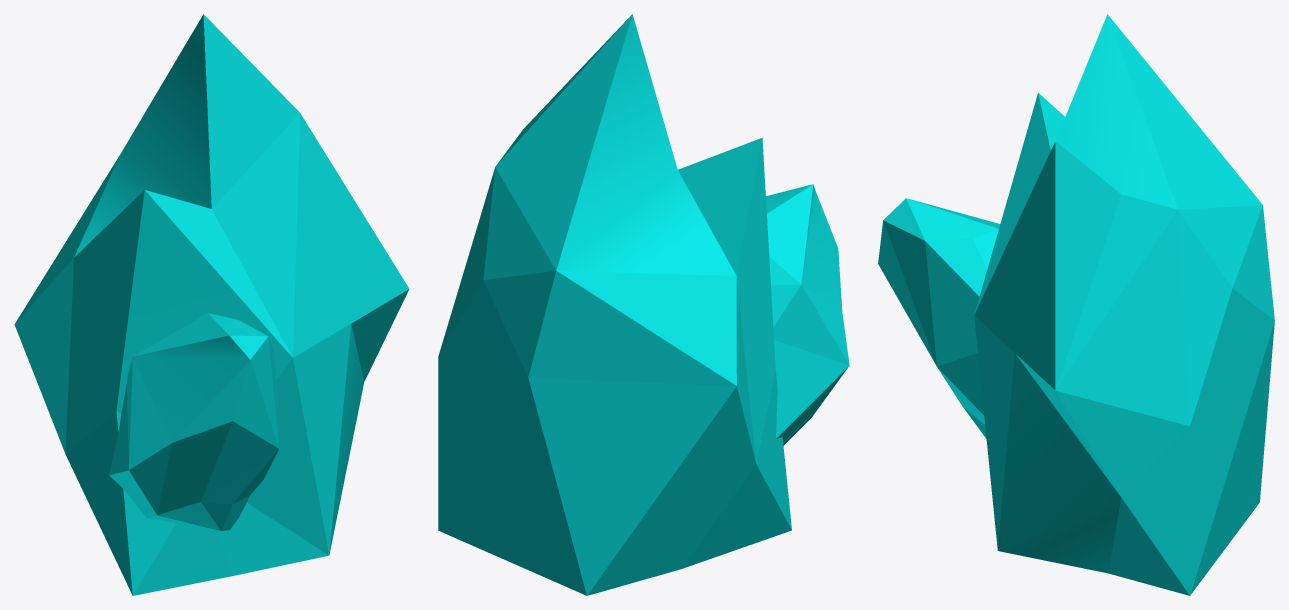
The model's file is SpikyIce.fbx.
The picture shows the model from 3 angles, left to right: view 1: azimuth 30°, elevation 25°; view 2: azimuth 150°, elevation 25°; view 3: azimuth 270°, elevation 25°; orthographic projection. The views are drawn at different scales.
Visible parts, largest first — view 1: pPlatonic2, pPlatonic3; view 2: pPlatonic2, pPlatonic3; view 3: pPlatonic2, pPlatonic3.
Part boxes in pixels (<box>): pPlatonic2: <box>14,14,409,595</box>; pPlatonic3: <box>109,313,279,531</box>; pPlatonic2: <box>438,14,791,595</box>; pPlatonic3: <box>766,184,849,445</box>; pPlatonic2: <box>974,14,1274,595</box>; pPlatonic3: <box>878,198,1000,438</box>.
Size of the model in its own units: 1.87 by 2.87 by 2.03.
